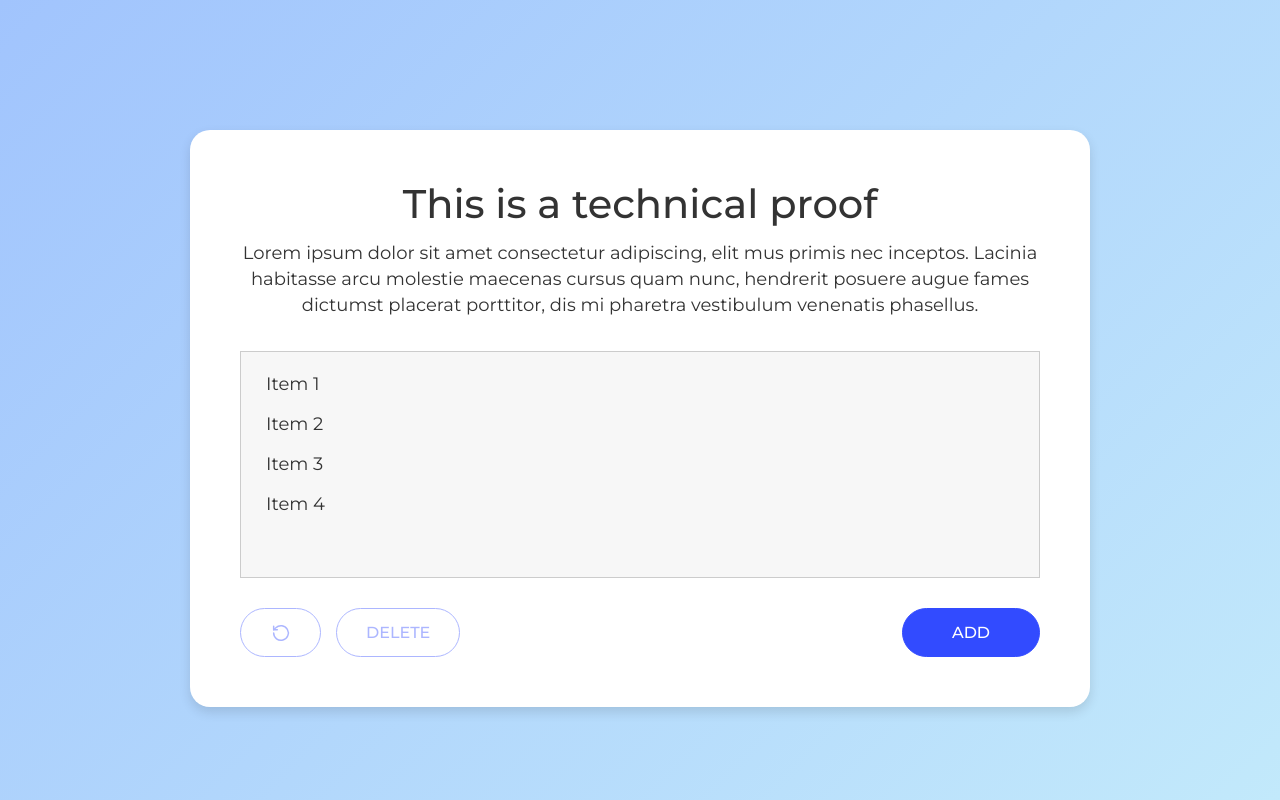
Scenario: App › deletes every selected item
Click the button "Item 2" at (295, 424), box 251,404 -> 1029,444
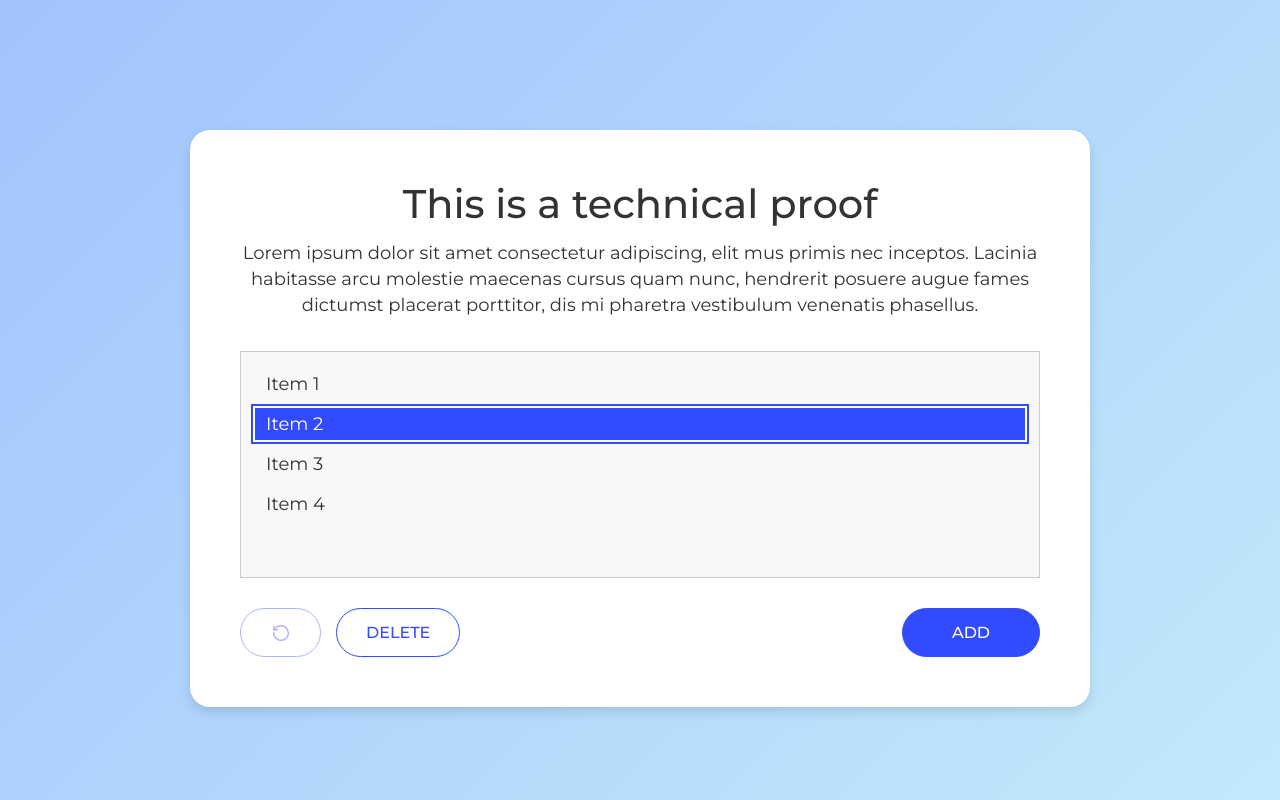
Click the button "Item 4" at (296, 504), box 251,484 -> 1029,524
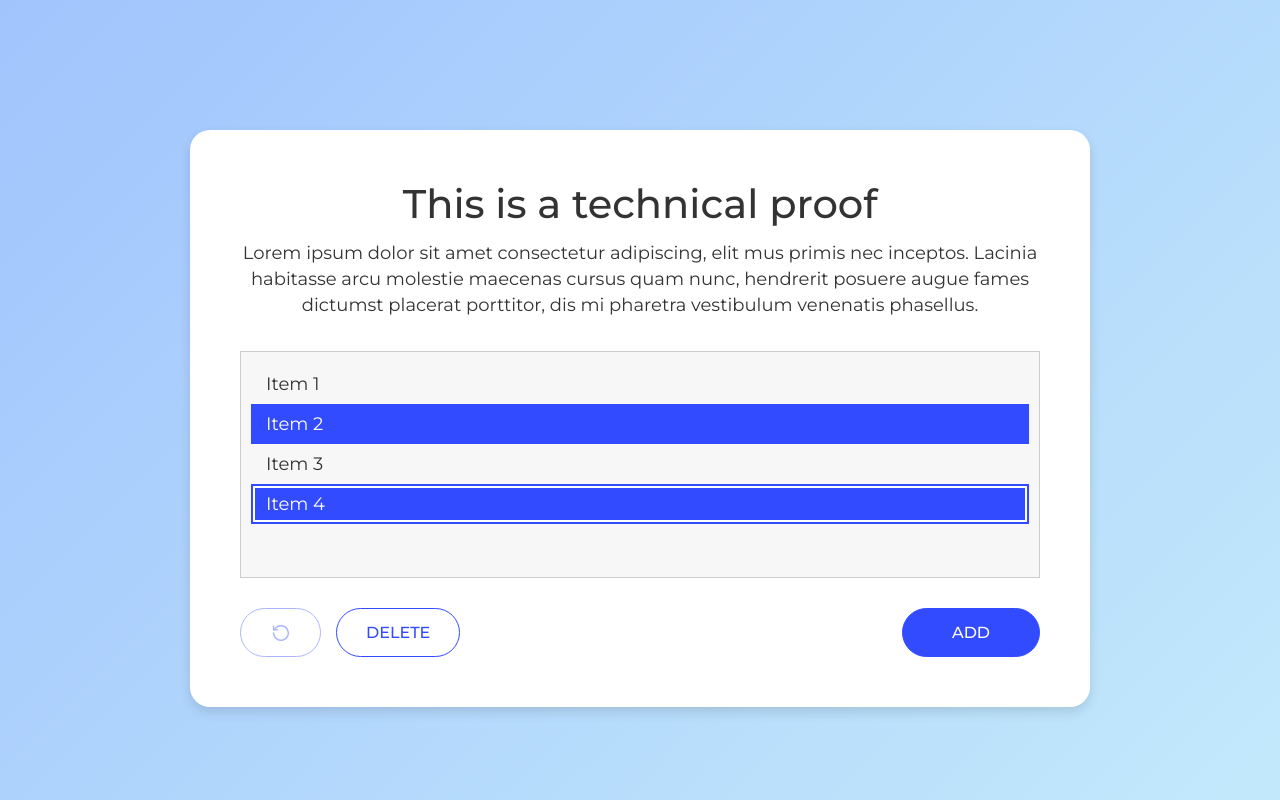
Result: the button "Item 2" is pressed at 251,404 -> 1029,444
Click the button "Delete" at (398, 633), box 336,608 -> 460,657
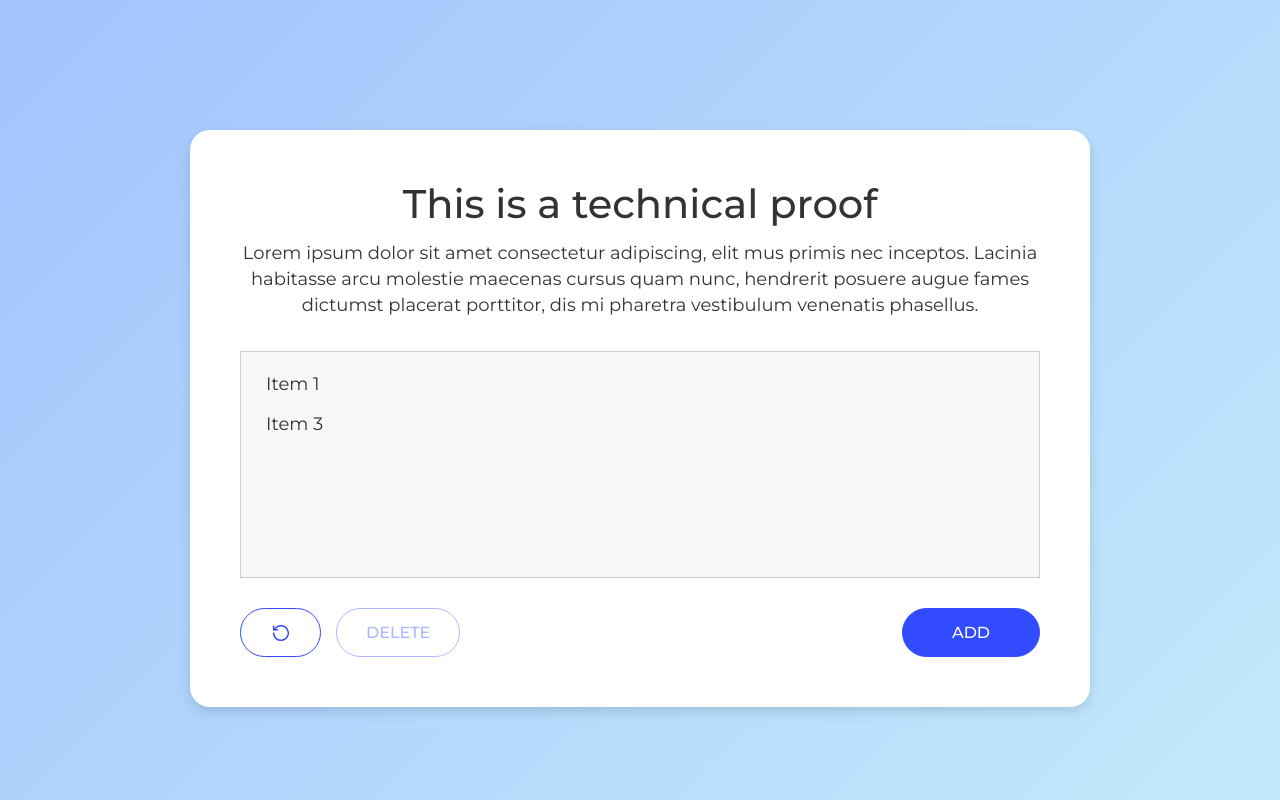
Result: the button "Delete" is disabled at 336,608 -> 460,657
